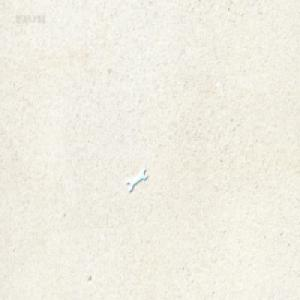Wrench: (126, 167, 148, 193)
